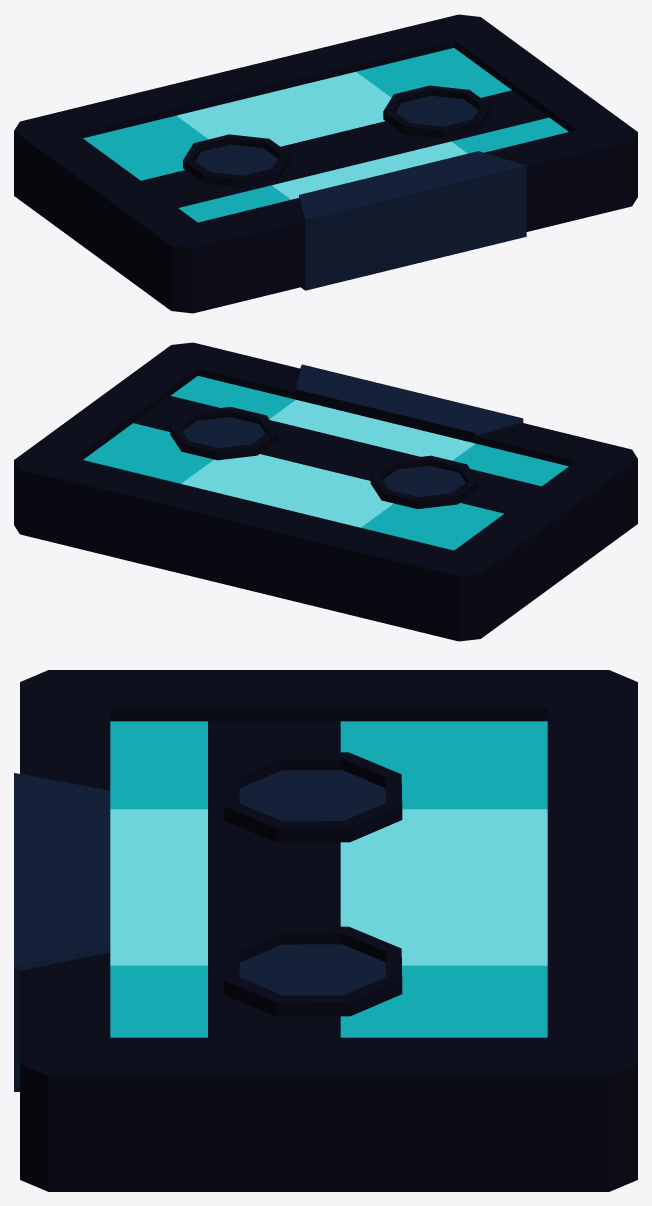
Rendered from Trash_Cassette_Blue.fbx.
3 renders of one model, top to bottom at view 1: azimuth 30°, elevation 25°; view 2: azimuth 150°, elevation 25°; view 3: azimuth 270°, elevation 25°, orthographic. The views are drawn at different scales.
Parts seen in each view (by area): view 1: Cube.145; view 2: Cube.145; view 3: Cube.145.
Part boxes in pixels (x1,y1,x2,y2): Cube.145: (14,14,637,313); Cube.145: (14,342,637,641); Cube.145: (14,670,637,1191).
Bounding box in the file's own units: 16.38 × 2.38 × 10.64.
